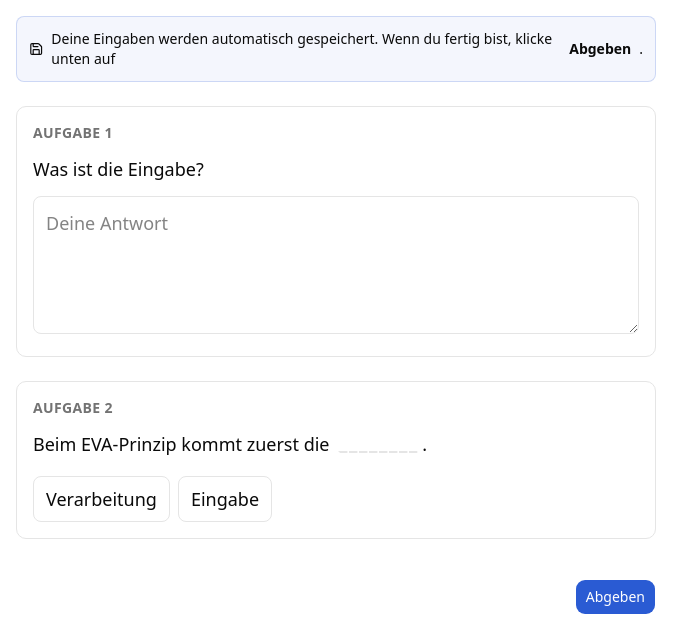
WorksheetRunner › shows save indicator transitions during draft autosave
Expected: the text "automatisch gespeichert" is shown, [51,29,552,68]
Step 1. Type "Test" into the text box with placeholder "Deine Antwort" → x=336, y=265, box [33,196,639,334]
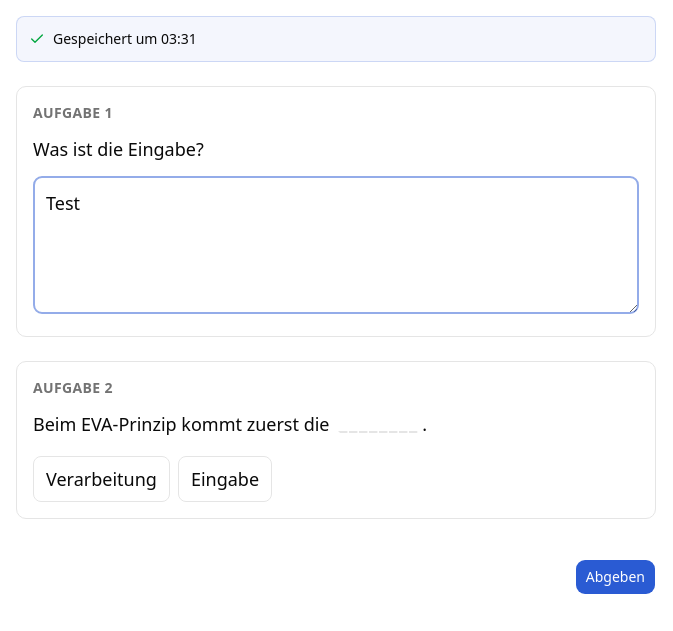
Expected: the text "Gespeichert um 03:31" is shown, [29,29,197,48]
